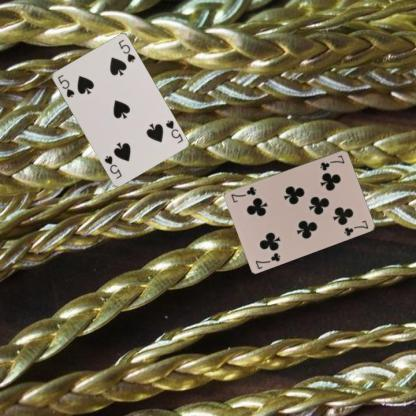5s: (162, 118, 184, 144), (55, 72, 76, 99)
7c: (253, 249, 282, 270), (317, 152, 346, 172)
